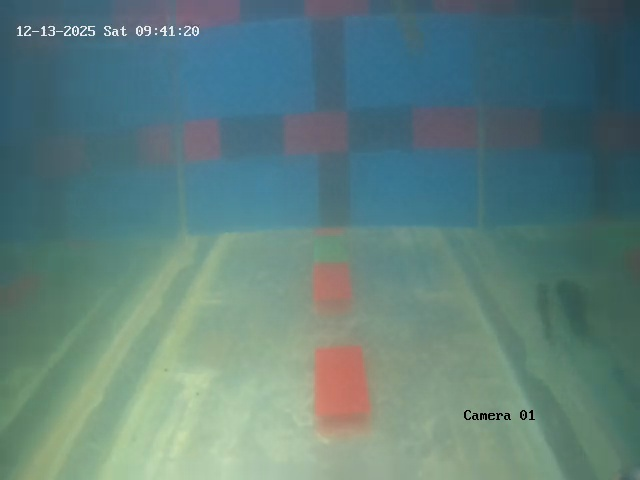fish: (532, 273, 560, 345)
